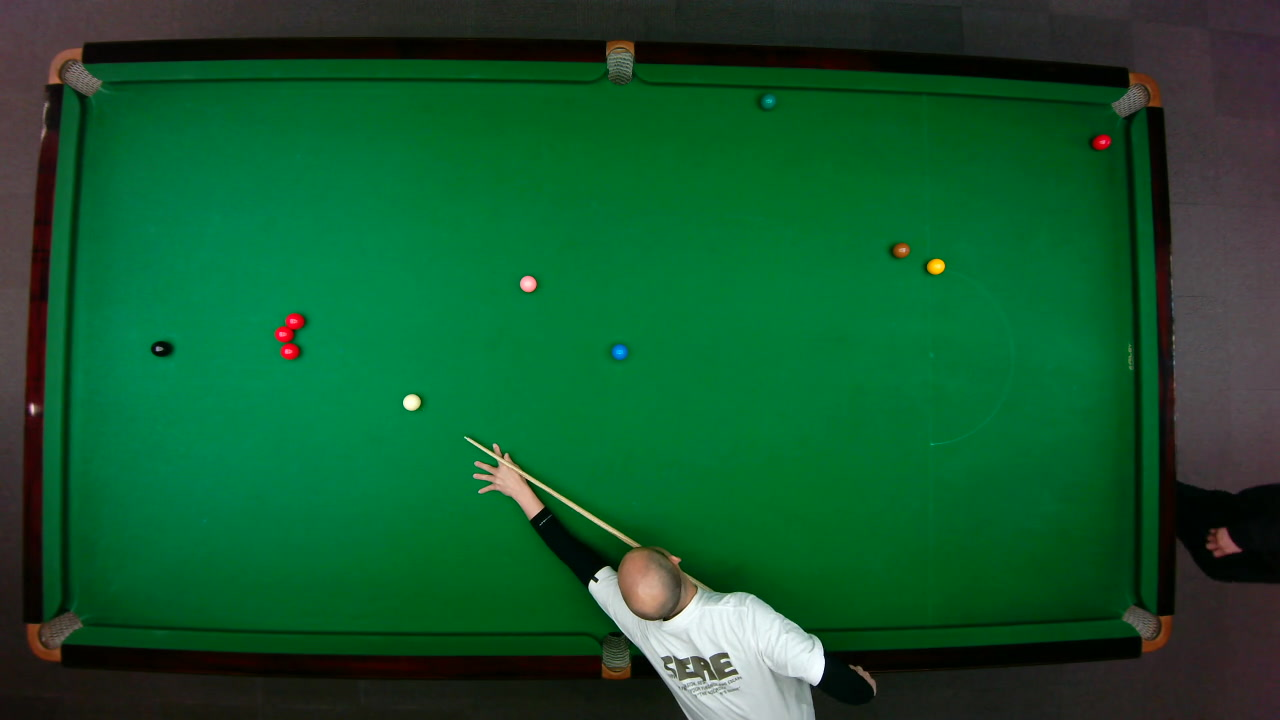bag: (24, 609, 83, 661), (46, 46, 102, 97), (1119, 603, 1172, 652), (1108, 71, 1162, 118), (601, 630, 630, 680), (605, 38, 633, 85)
black: (149, 339, 172, 357)
blue: (610, 342, 628, 360)
brown: (890, 241, 911, 258)
cue: (462, 434, 639, 549)
green: (758, 92, 776, 110)
pink: (518, 274, 537, 292)
red: (283, 311, 305, 330), (1090, 132, 1112, 150), (278, 342, 300, 360), (272, 324, 293, 342)
white: (401, 392, 421, 411)
yellow: (925, 256, 946, 275)
zone: (927, 263, 1013, 445)
